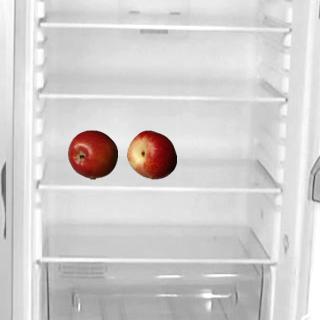Apple Braeburn: (67, 129, 117, 179)
Nectarine: (126, 129, 176, 179)
